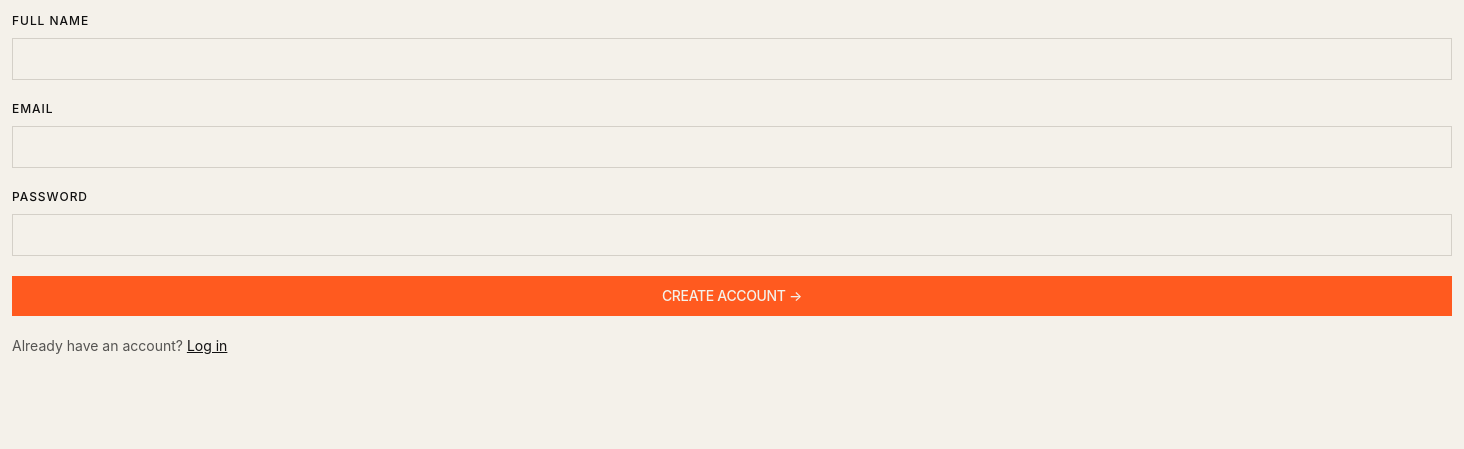
Test case: RegisterForm errors › says what to fix beside the field, in words, before anything is sent
The width and height of the screenshot is (1464, 449).
What coordinates should you click on to do the following:
click the button "CREATE ACCOUNT →"
I would click on:
 (732, 296)
Its box is 12,276 -> 1452,316.
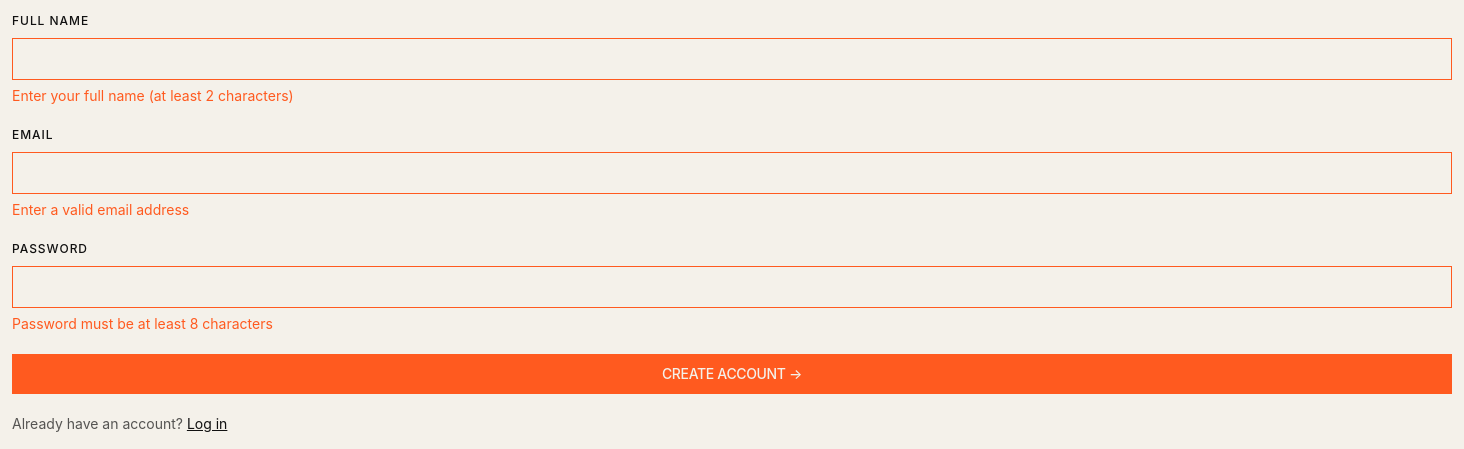
Now the text "Enter your full name (at least 2 characters)" is shown, box 12,87 -> 294,104
Now the text "Enter a valid email address" is shown, box 12,201 -> 189,218
Now the text "Password must be at least 8 characters" is shown, box 12,315 -> 273,332
